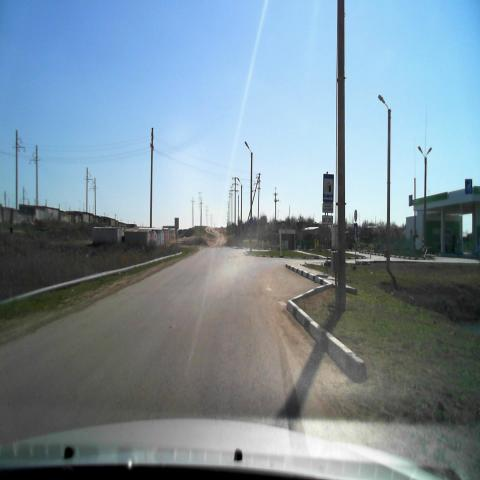7_3: (323, 174, 333, 202)
